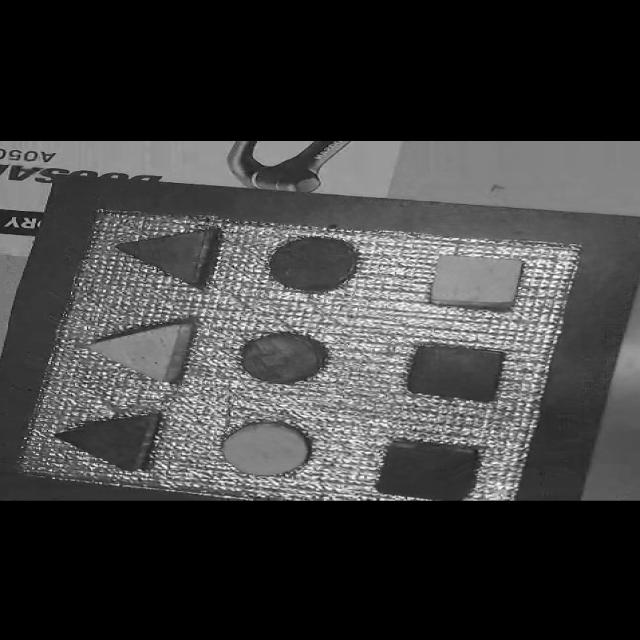bcircle: (263, 234, 367, 293)
bcube: (397, 340, 518, 408)
btriangle: (50, 409, 171, 471)
rcircle: (233, 330, 333, 386)
rcube: (370, 437, 488, 506)
rtriangle: (107, 224, 234, 290)
wb: (4, 207, 591, 500)
ycircle: (214, 420, 320, 480)
ycube: (424, 249, 539, 317)
ytriangle: (83, 322, 207, 386)
